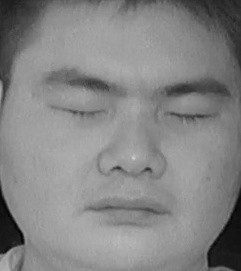blink: (49, 93, 104, 127), (167, 98, 213, 133)
mouth: (83, 183, 170, 229)
